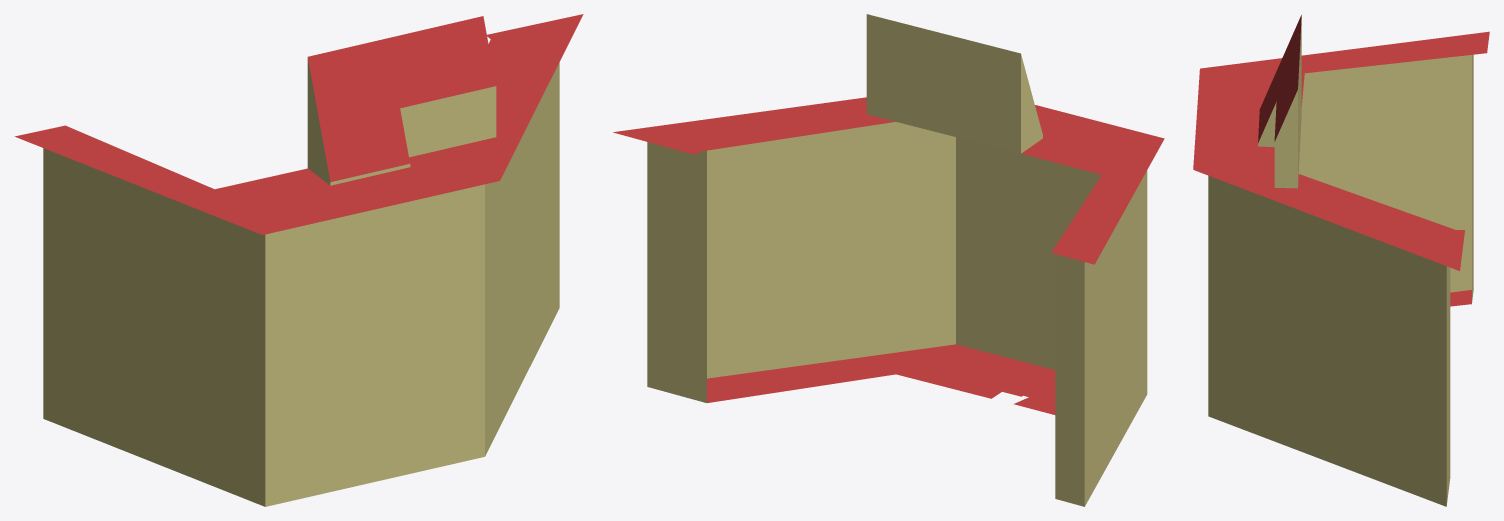
3 views of the same model, side by side, from view 1: azimuth 30°, elevation 25°; view 2: azimuth 150°, elevation 25°; view 3: azimuth 270°, elevation 25° (orthographic). The views are drawn at different scales.
Parts seen in each view (by area): view 1: group_7, group_3, group_4, group_5, group_6; view 2: group_7, group_3, group_5, group_8; view 3: group_7, group_3, group_5, group_4, group_6.
Part boxes in pixels (left/top/right/bottom): group_7: left=43, top=62, right=559, bottom=506; group_3: left=15, top=14, right=583, bottom=234; group_4: left=307, top=16, right=495, bottom=182; group_5: left=307, top=58, right=496, bottom=185; group_6: left=16, top=14, right=582, bottom=171; group_7: left=647, top=122, right=1147, bottom=506; group_3: left=613, top=97, right=1164, bottom=264; group_5: left=866, top=14, right=1042, bottom=153; group_8: left=707, top=344, right=1055, bottom=414; group_7: left=1208, top=54, right=1473, bottom=506; group_3: left=1193, top=31, right=1489, bottom=270; group_5: left=1258, top=20, right=1301, bottom=188; group_4: left=1258, top=15, right=1301, bottom=142; group_6: left=1211, top=33, right=1488, bottom=270.
Size of the model in its own units: 18.9 by 9.89 by 12.81.
